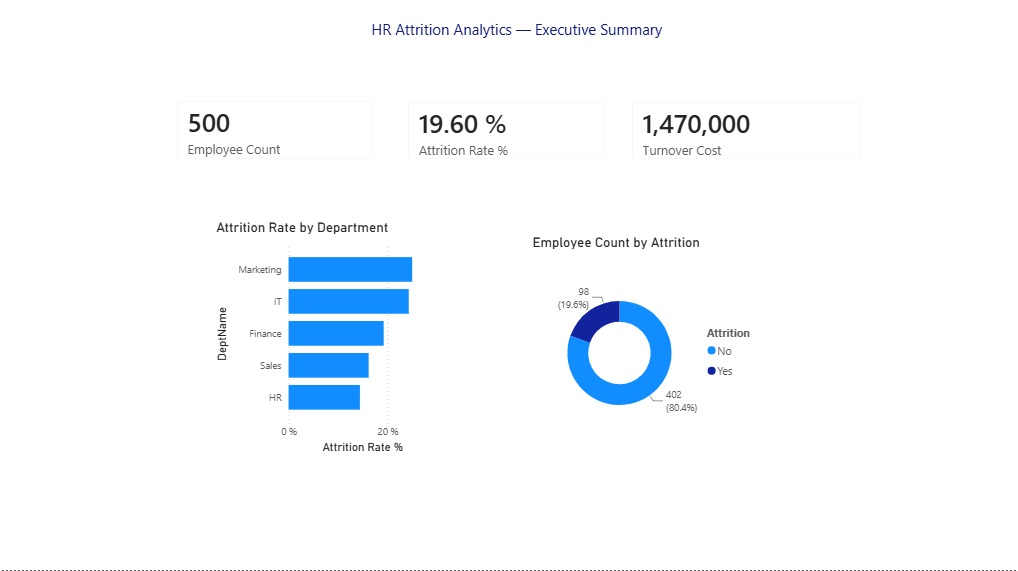

Layout of this report page (visuals, bound fields, positions):
{"tool":"powerbi","page":{"name":"Executive Summary","canvas":[1280,720],"ordinal":0},"visuals":[{"type":"cardVisual","fields":{"Data":["hr_employees.Employee Count"]},"box":[210.3,115.4,279.5,107.7],"z":0},{"type":"cardVisual","fields":{"Data":["hr_employees.Attrition Rate %"]},"box":[498.7,117.9,280.8,105.1],"z":1000},{"type":"cardVisual","fields":{"Data":["hr_employees.Estimated Turnover Cost Display"]},"box":[779.4,118,321.1,105.7],"z":2000},{"type":"textbox","box":[402.6,7.7,500,62.8],"z":3000},{"type":"clusteredBarChart","title":" Attrition Rate by Department","fields":{"Category":["hr_departments.DeptName"],"Y":["hr_employees.Attrition Rate %"]},"box":[270.3,279.6,300.5,299.1],"z":4000},{"type":"donutChart","fields":{"Category":["hr_employees.Attrition"],"Y":["hr_employees.Employee Count"]},"box":[666.9,299.1,299.1,279.9],"z":5000}]}

Visuals, with their boxes in screenshot pixels (x1, y1, x2, y2), scaled from the page's 1280x720 canvas onto the 1018x571 screenshot:
cardVisual - hr_employees.Employee Count: crop(167, 92, 390, 177)
cardVisual - hr_employees.Attrition Rate %: crop(397, 94, 620, 177)
cardVisual - hr_employees.Estimated Turnover Cost Display: crop(620, 94, 875, 177)
textbox: crop(320, 6, 718, 56)
" Attrition Rate by Department" clusteredBarChart: crop(215, 222, 454, 459)
donutChart - hr_employees.Attrition x hr_employees.Employee Count: crop(530, 237, 768, 459)
